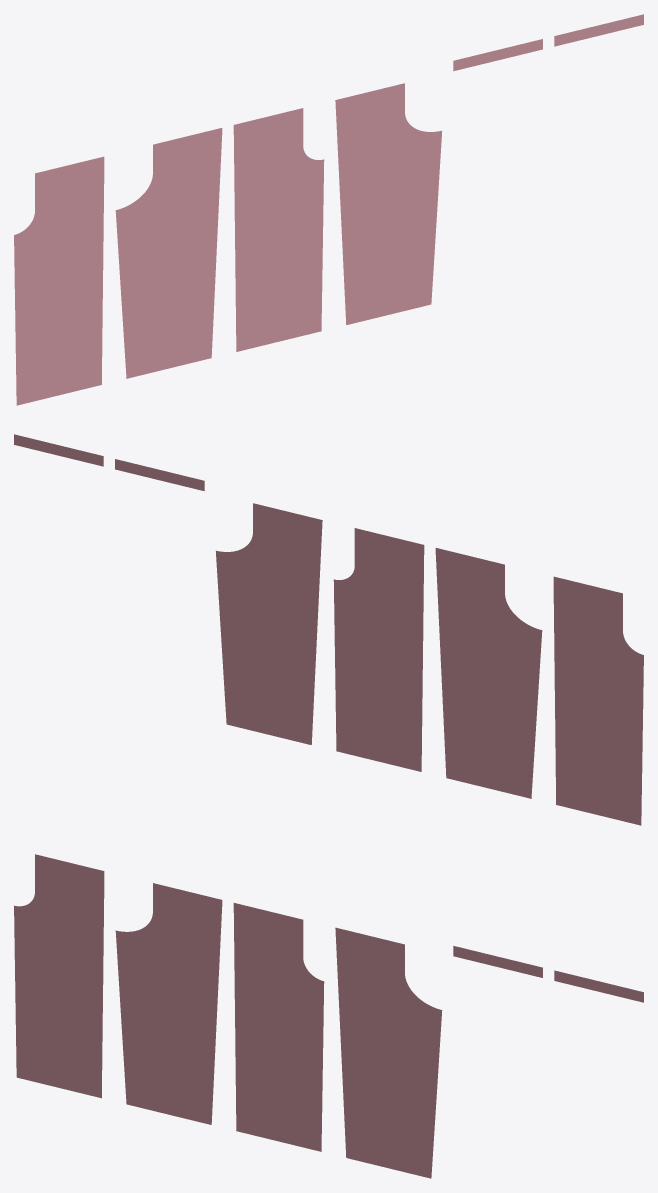
File: pantalon-sudadera-pierna-ancha-talla-XL.glb
3 views of the same model, one above another, from view 1: azimuth 30°, elevation 25°; view 2: azimuth 150°, elevation 25°; view 3: azimuth 330°, elevation 25° (orthographic).
Parts seen in each view (by area): view 1: patron-espalda-izq, patron-espalda-der, patron-delantero-der, patron-delantero-izq, patron-pretina-delantera, patron-pretina-trasera; view 2: patron-espalda-izq, patron-espalda-der, patron-delantero-der, patron-delantero-izq, patron-pretina-delantera, patron-pretina-trasera; view 3: patron-espalda-izq, patron-espalda-der, patron-delantero-der, patron-delantero-izq, patron-pretina-trasera, patron-pretina-delantera.
Boxes of the visible parts, bbox=[...] form: patron-espalda-izq: bbox=[115, 128, 222, 378]; patron-espalda-der: bbox=[335, 83, 441, 324]; patron-delantero-der: bbox=[233, 108, 324, 351]; patron-delantero-izq: bbox=[14, 156, 104, 405]; patron-pretina-delantera: bbox=[453, 39, 542, 71]; patron-pretina-trasera: bbox=[554, 14, 643, 46]; patron-espalda-izq: bbox=[435, 548, 542, 798]; patron-espalda-der: bbox=[216, 503, 322, 744]; patron-delantero-der: bbox=[333, 528, 424, 771]; patron-delantero-izq: bbox=[553, 576, 643, 825]; patron-pretina-delantera: bbox=[115, 459, 204, 491]; patron-pretina-trasera: bbox=[14, 434, 103, 466]; patron-espalda-izq: bbox=[115, 883, 222, 1124]; patron-espalda-der: bbox=[335, 927, 442, 1178]; patron-delantero-der: bbox=[233, 903, 324, 1151]; patron-delantero-izq: bbox=[14, 854, 104, 1098]; patron-pretina-trasera: bbox=[554, 970, 643, 1002]; patron-pretina-delantera: bbox=[453, 946, 542, 977].
Bounding box in the file's own units: 2.81 × 1.02 × 0.
